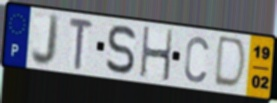C: (182, 34, 210, 85)
D: (212, 34, 249, 92)
H: (139, 25, 175, 84)
J: (29, 12, 62, 69)
S: (104, 24, 138, 77)
T: (67, 15, 95, 72)
